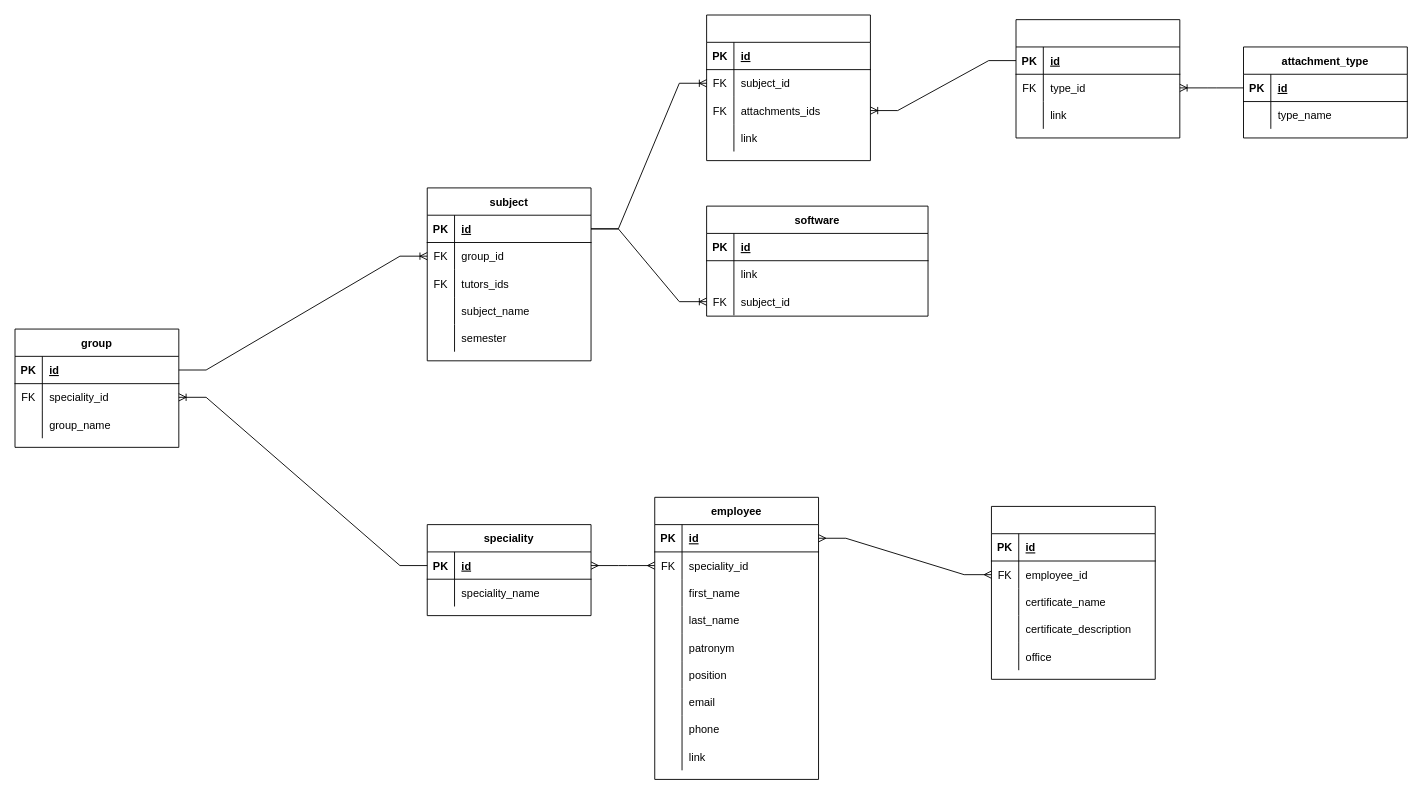
Image size: 1422x794. Some labels were removed from this diagram. Each missing label, with the box of its shape:
attachment: (1015, 19, 1180, 138)
page: (706, 14, 870, 161)
сertificate: (991, 506, 1155, 679)
